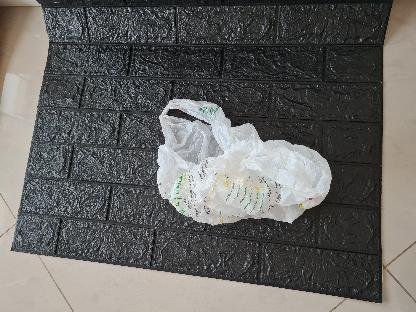Plastic Bag: (155, 97, 333, 227)
